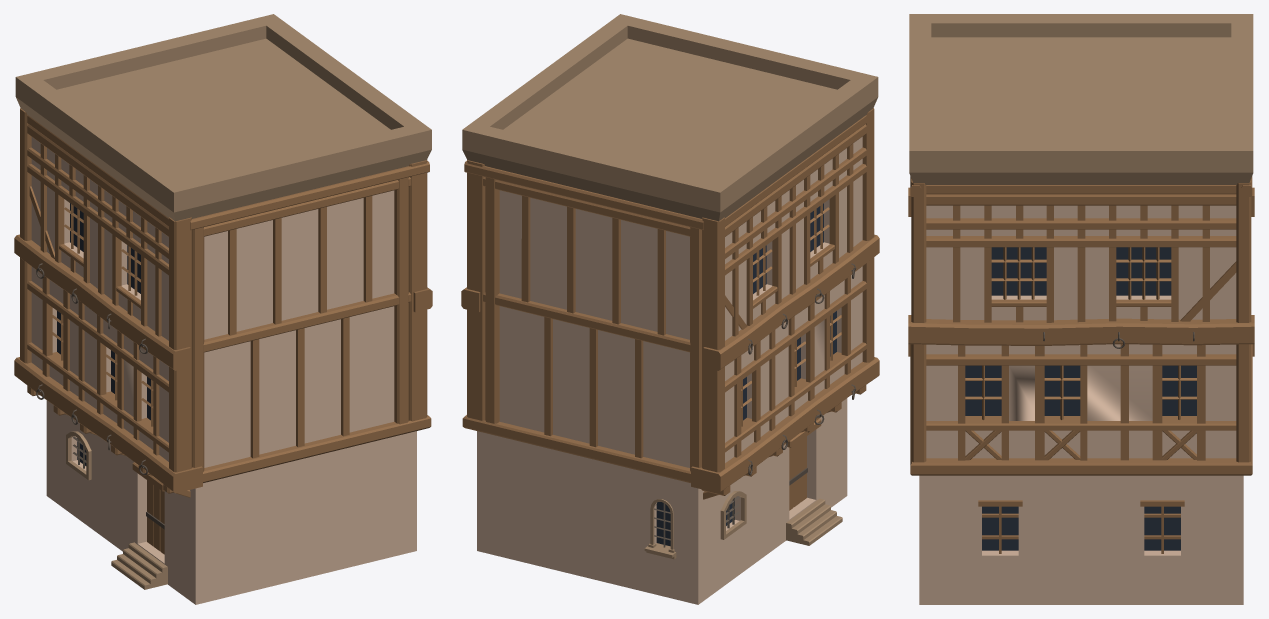
Rendered from civilian_house_20.glb.
The picture shows the model from 3 angles, left to right: view 1: azimuth 30°, elevation 25°; view 2: azimuth 150°, elevation 25°; view 3: azimuth 270°, elevation 25°; orthographic projection. The views are drawn at different scales.
Visible parts, largest first — view 1: civilian_house_20; view 2: civilian_house_20; view 3: civilian_house_20.
Part boxes in pixels (left/top/right/bottom): civilian_house_20: left=14, top=14, right=432, bottom=604; civilian_house_20: left=461, top=14, right=879, bottom=604; civilian_house_20: left=908, top=14, right=1254, bottom=604.
Size of the model in its own units: 7.29 by 10.93 by 7.46.
